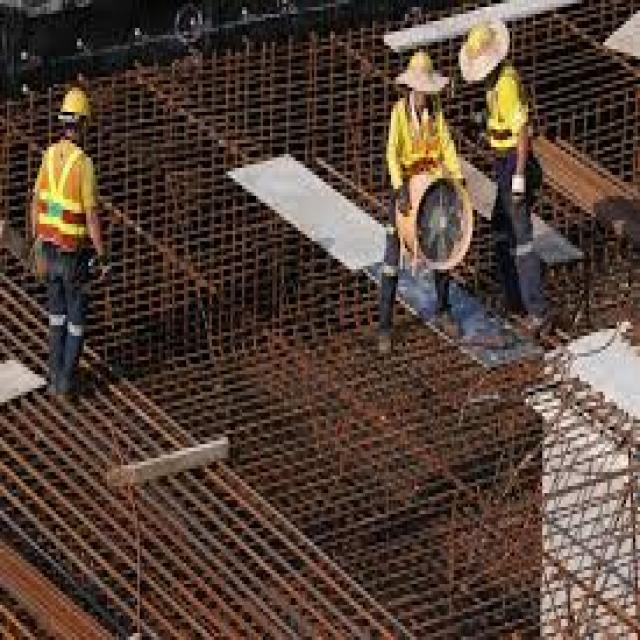Reflective-Jacket: (31, 136, 102, 266), (384, 101, 470, 203), (479, 70, 533, 168)
Safety-Helmet: (454, 10, 514, 84), (391, 45, 447, 98), (56, 80, 98, 126)
